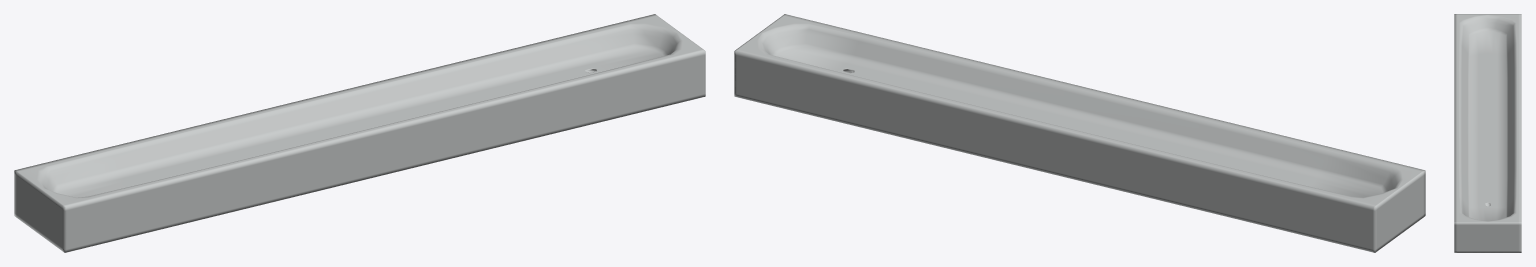
The model's file is MOA_incense_SV.glb.
The picture shows the model from 3 angles, left to right: view 1: azimuth 30°, elevation 25°; view 2: azimuth 150°, elevation 25°; view 3: azimuth 270°, elevation 25°; orthographic projection. The views are drawn at different scales.
Parts seen in each view (by area): view 1: MOA_incense_SV.model; view 2: MOA_incense_SV.model; view 3: MOA_incense_SV.model.
Boxes of the visible parts, box(x1,y1,x2,y2) form: MOA_incense_SV.model: box(14, 14, 705, 252); MOA_incense_SV.model: box(734, 14, 1425, 252); MOA_incense_SV.model: box(1454, 14, 1521, 252).
Bounding box in the file's own units: 0.22 × 0.015 × 0.03.
Materials: 1 (1 with a texture image).
